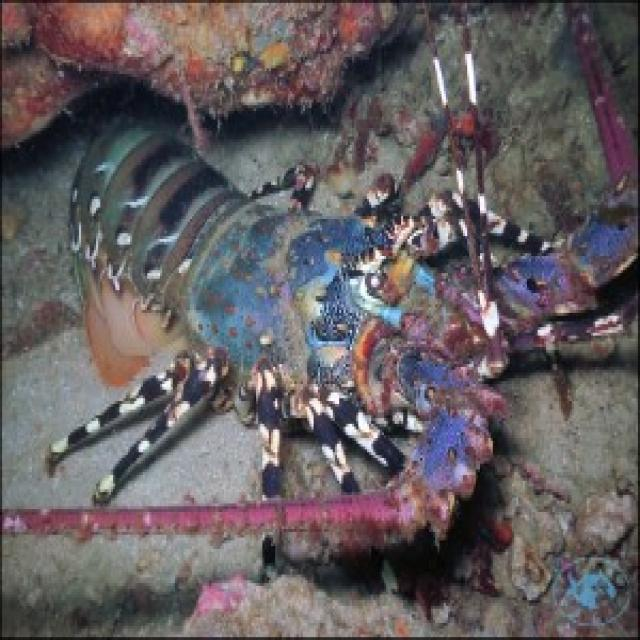lobsters: (10, 0, 640, 606)
